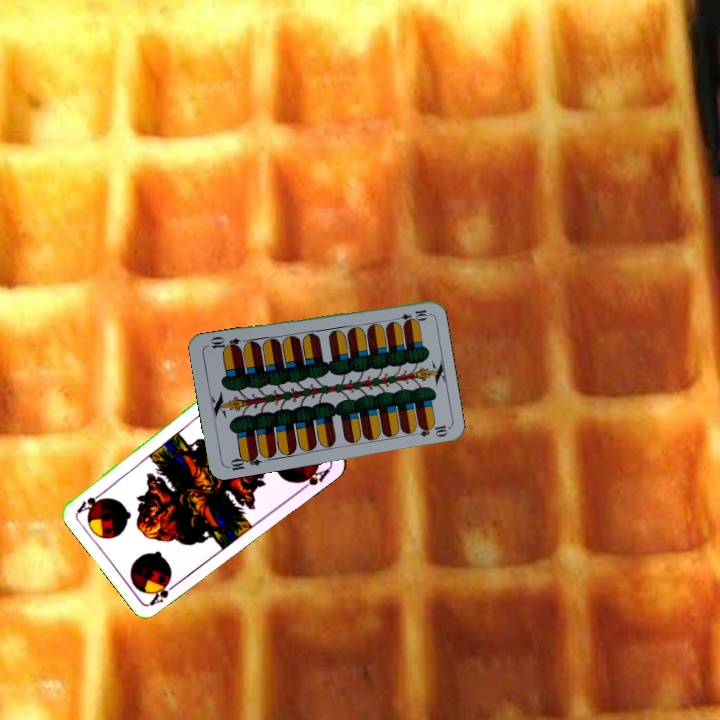E10: (223, 450, 263, 473), (390, 305, 430, 325)
SA: (146, 578, 181, 608)
